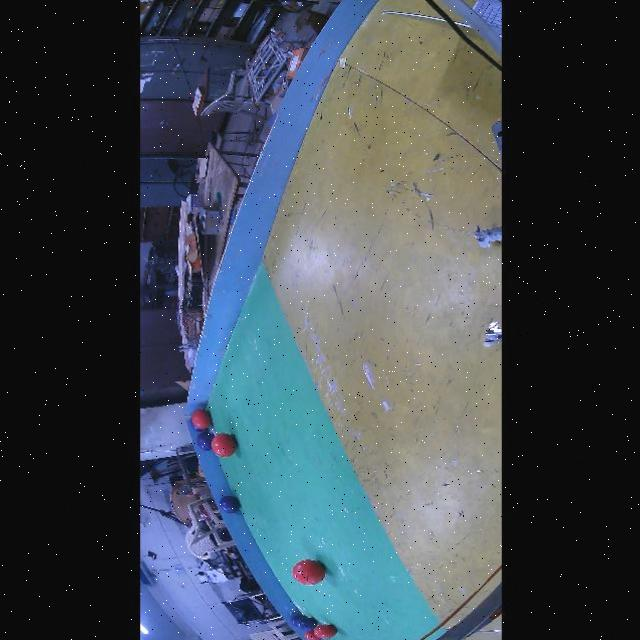P: (196, 432, 214, 451), (219, 496, 239, 513), (295, 617, 317, 630), (289, 613, 304, 625), (190, 420, 202, 432)
R: (292, 560, 324, 585), (211, 433, 236, 457), (191, 409, 211, 429), (313, 624, 336, 638), (304, 630, 320, 640)
